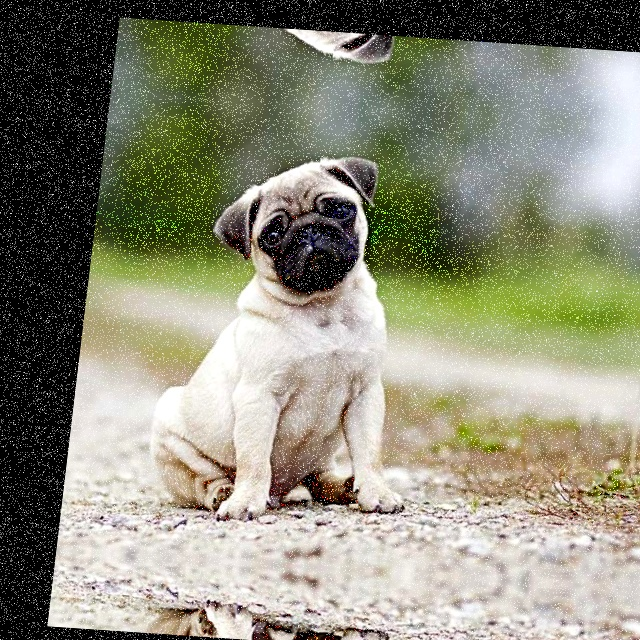dog: (124, 130, 470, 539), (178, 22, 484, 86), (111, 590, 416, 640)
